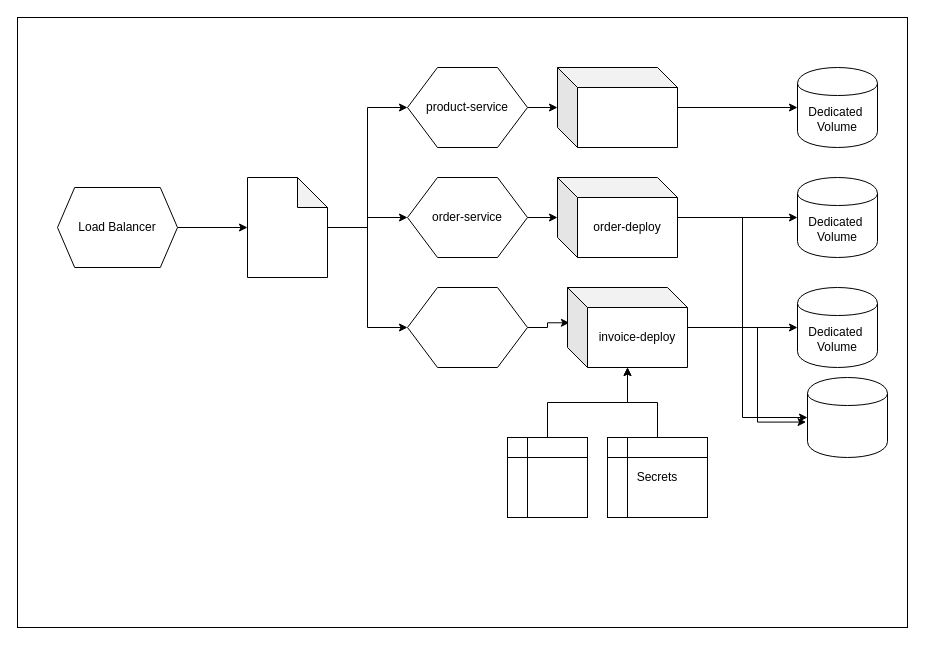
Some shapes in this 925 by 645 pixel diagram are drawn without their labels. Here are the shapes that lost their labels. From the top down, the centre of each, then its label:
[617,107]: product-deploy
[287,227]: Ingress Routes
[467,327]: invoice-service
[847,417]: Shared Volumes
[547,477]: ConfigMap
